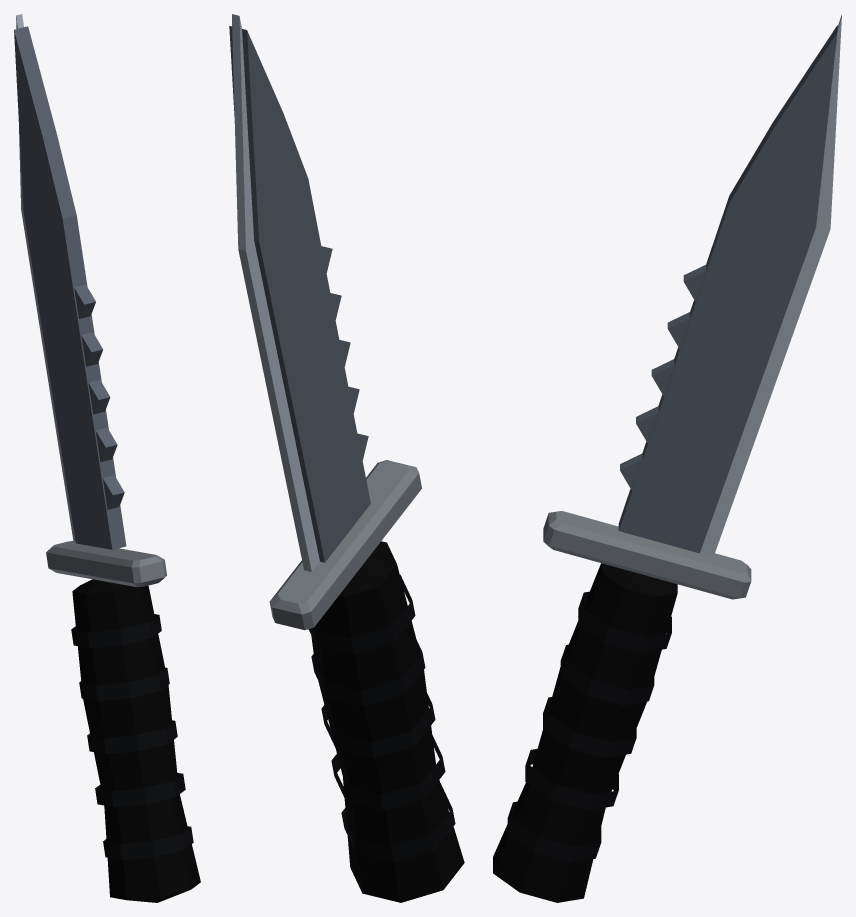
Rendered from SM_Wep_CombatKnife.glb.
3 views of the same model, side by side, from view 1: azimuth 30°, elevation 25°; view 2: azimuth 150°, elevation 25°; view 3: azimuth 270°, elevation 25° (orthographic). The views are drawn at different scales.
Visible parts, largest first — view 1: SM_Wep_CombatKnife; view 2: SM_Wep_CombatKnife; view 3: SM_Wep_CombatKnife.
Part boxes in pixels (x1,y1,x2,y2): SM_Wep_CombatKnife: [14, 14, 200, 902]; SM_Wep_CombatKnife: [229, 14, 464, 902]; SM_Wep_CombatKnife: [493, 14, 841, 902].
Bounding box in the file's own units: 0.0314 × 0.3192 × 0.1153.
Materials: 1 (1 with a texture image).
